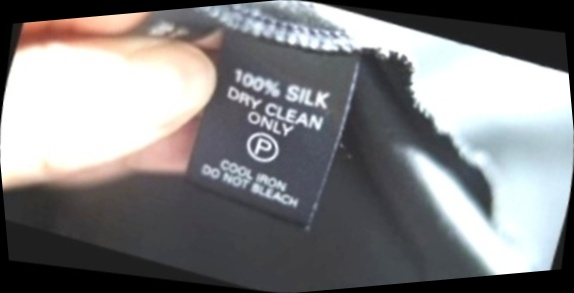dry_clean_any_solvent_except_trichloroethylene: (232, 116, 296, 178)
